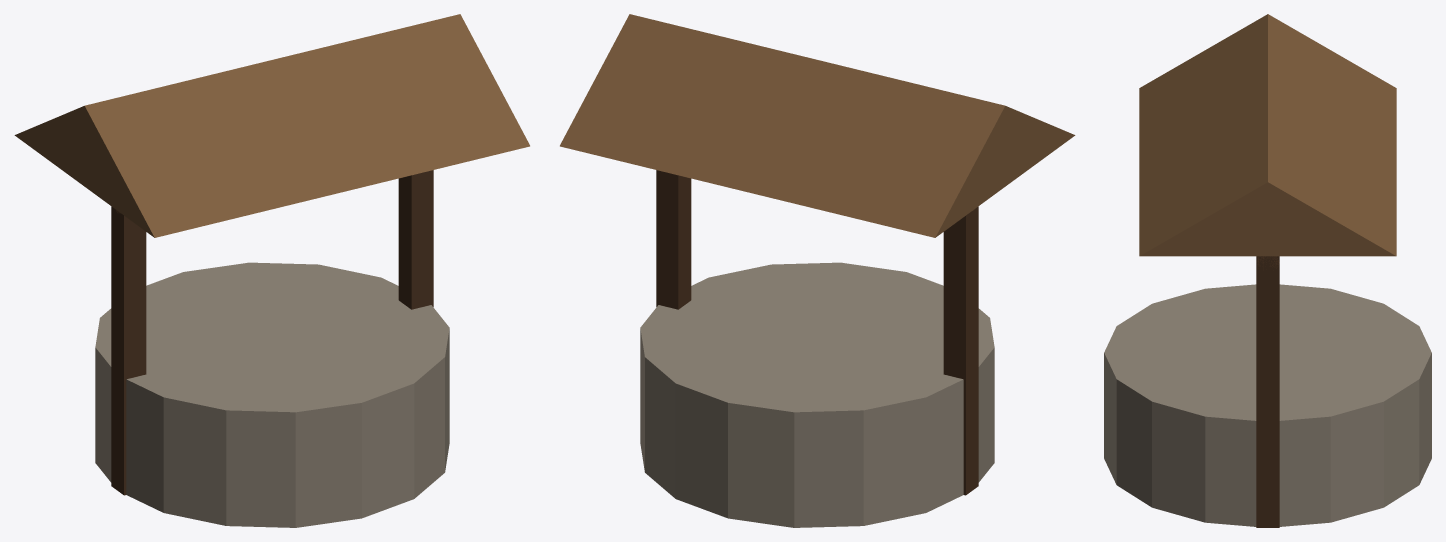
File: well.glb
3 views of the same model, side by side, from view 1: azimuth 30°, elevation 25°; view 2: azimuth 150°, elevation 25°; view 3: azimuth 270°, elevation 25° (orthographic). The views are drawn at different scales.
Visible parts, largest first — view 1: Well; view 2: Well; view 3: Well.
Boxes of the visible parts, x1,y1,x2,y2 form: Well: (14,14,529,527); Well: (560,14,1075,527); Well: (1104,14,1431,527).
Size of the model in its own units: 3.4 by 3.4 by 2.8.
